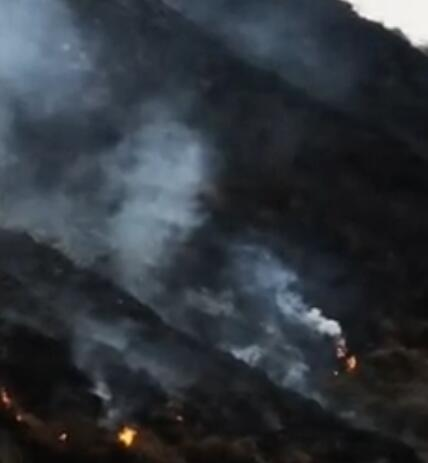fire: (340, 344, 360, 379), (112, 426, 137, 450)
yanwu: (1, 7, 333, 390)
